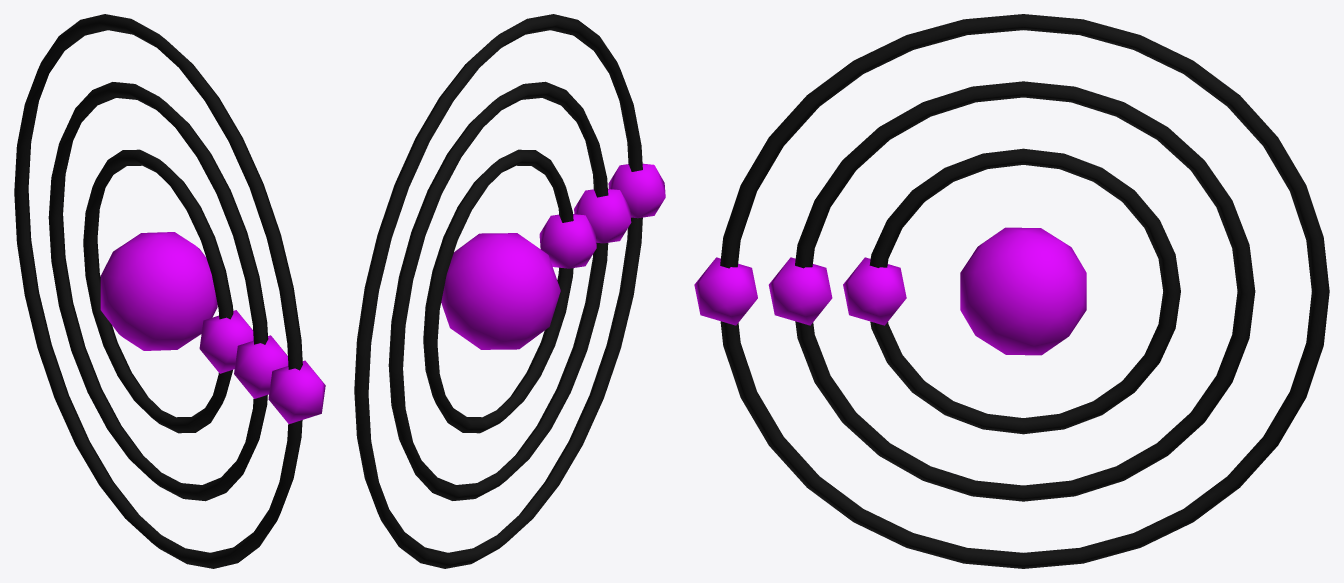
The model's file is booster.FBX.
3 renders of one model, left to right at view 1: azimuth 30°, elevation 25°; view 2: azimuth 150°, elevation 25°; view 3: azimuth 270°, elevation 25°, orthographic. The views are drawn at different scales.
Visible parts, largest first — view 1: Torus001, Torus002, core, Torus003; view 2: Torus001, Torus002, Torus003, core; view 3: Torus001, Torus002, Torus003, core.
Part boxes in pixels (x1,y1,x2,y2): Torus001: (14, 14, 325, 568); Torus002: (48, 82, 288, 501); core: (100, 232, 217, 350); Torus003: (83, 149, 253, 433); Torus001: (354, 14, 665, 568); Torus002: (388, 81, 631, 500); Torus003: (423, 149, 596, 433); core: (441, 233, 560, 349); Torus001: (694, 14, 1329, 568); Torus002: (768, 81, 1255, 501); Torus003: (843, 148, 1180, 434); core: (960, 227, 1086, 355).
Bounding box in the file's own units: 44.72 × 214 × 206.
